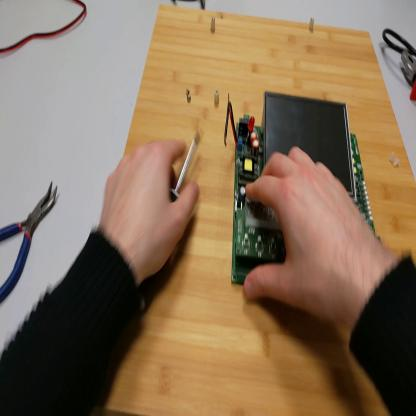hand: (242, 144, 373, 323), (101, 139, 199, 282)
low voltage board: (225, 94, 386, 288)
pliers: (2, 177, 61, 305), (402, 51, 416, 103)
screwdriver-: (170, 132, 204, 207)
working area: (93, 10, 416, 414)
